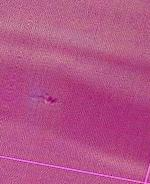knot: (39, 92, 63, 109)
